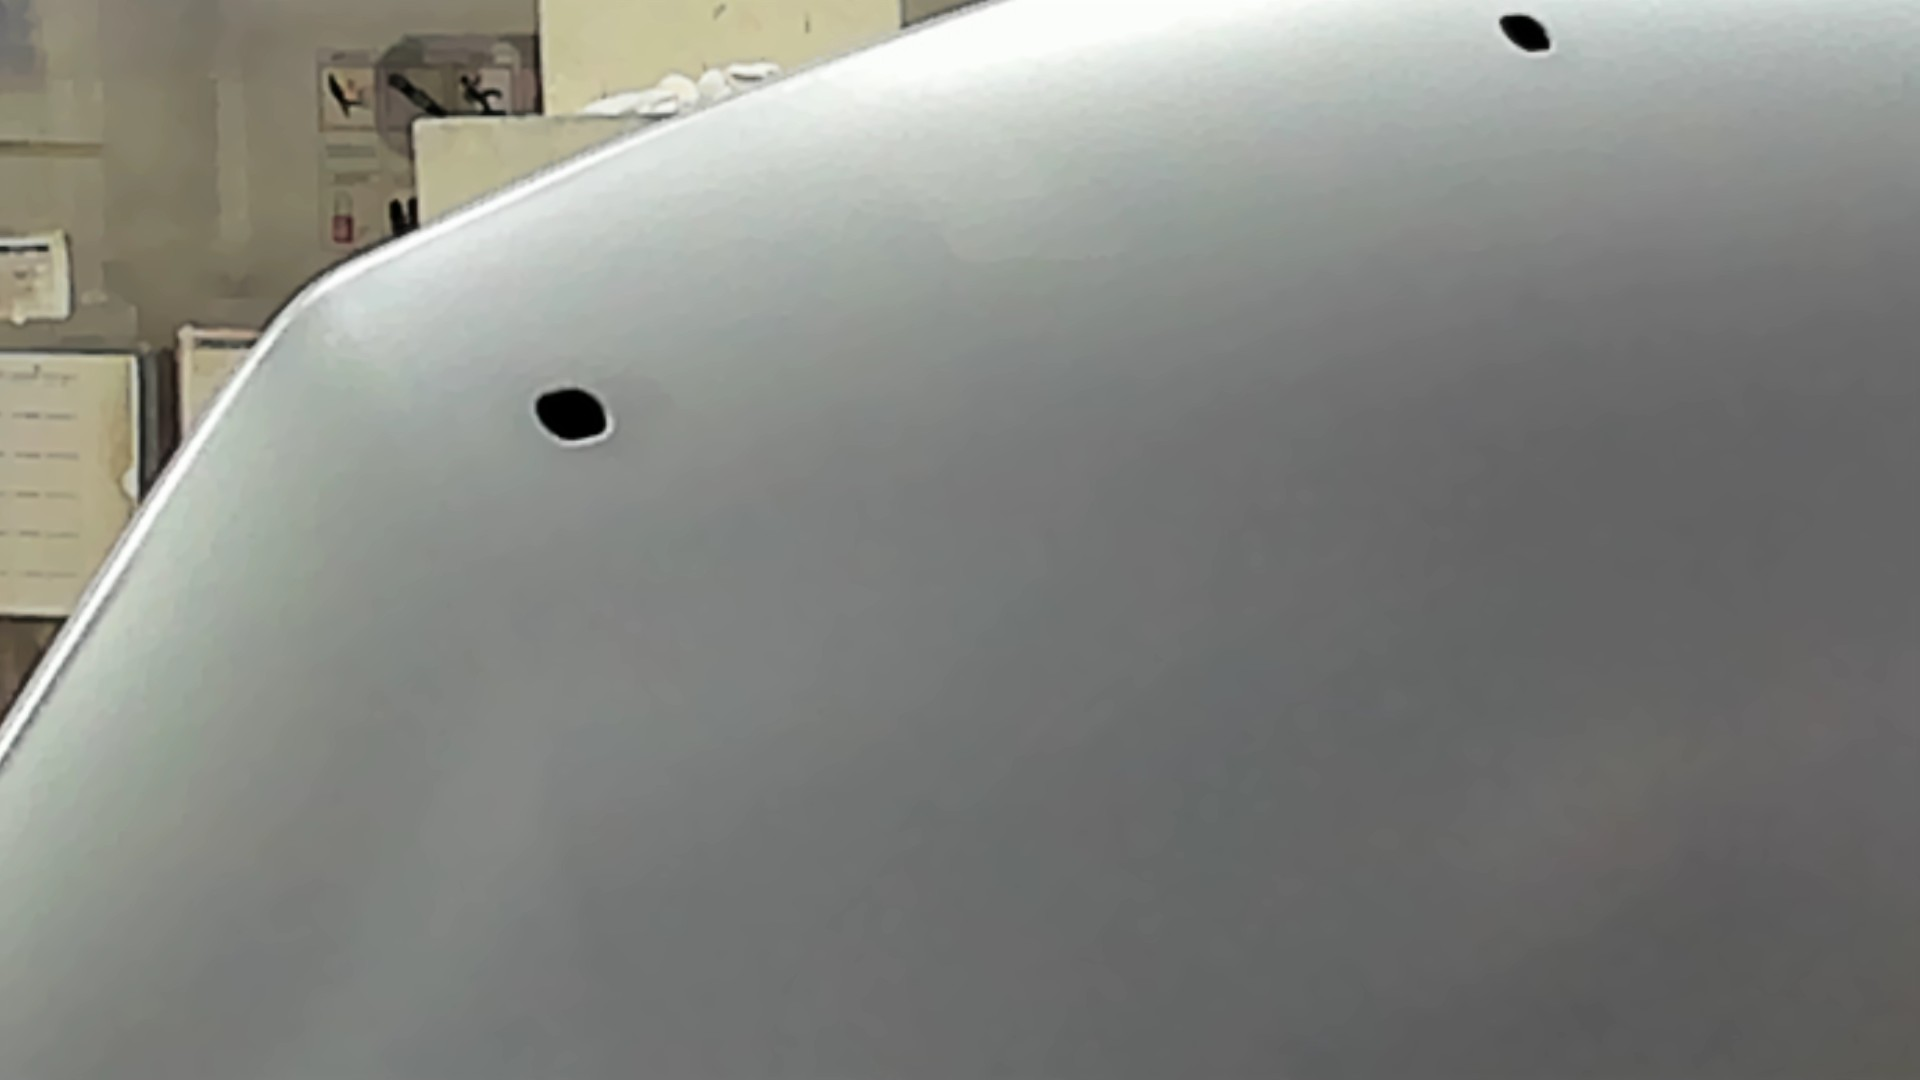amorfo: (529, 377, 622, 450), (1494, 7, 1561, 55)
capo: (752, 111, 1920, 1080)
